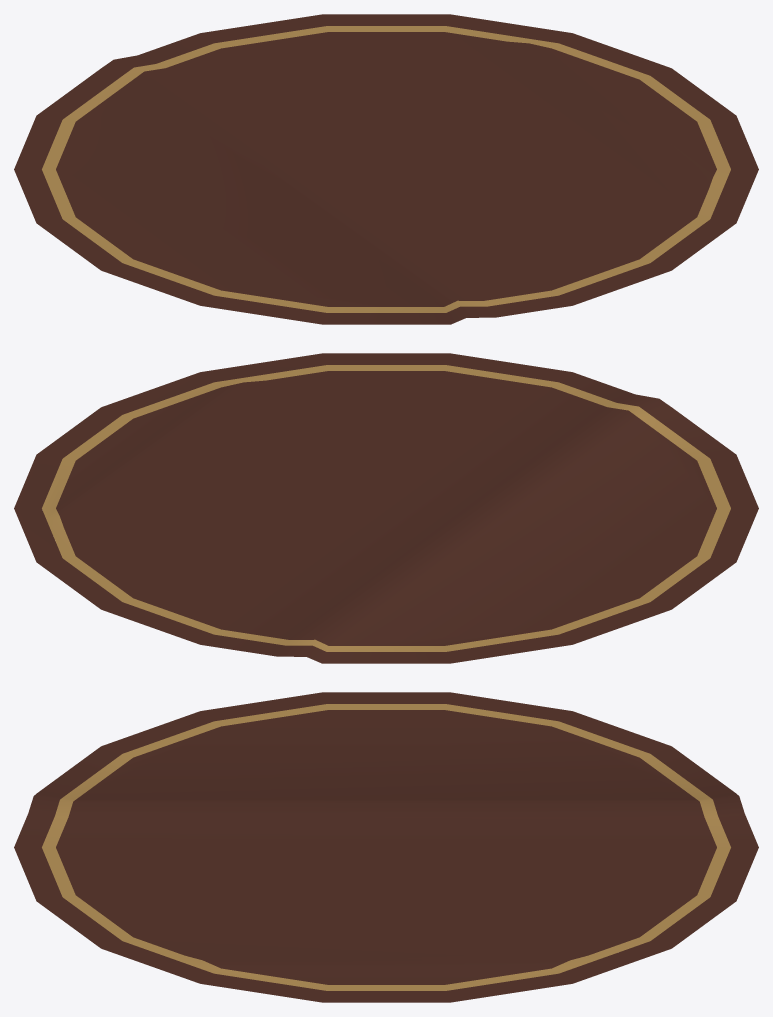
The model's file is quaternius-house-interior-carpet-round.glb.
3 views of the same model, one above another, from view 1: azimuth 30°, elevation 25°; view 2: azimuth 150°, elevation 25°; view 3: azimuth 270°, elevation 25° (orthographic).
Visible parts, largest first — view 1: Carpet_Round; view 2: Carpet_Round; view 3: Carpet_Round.
Boxes of the visible parts, left/top/right/bottom form: Carpet_Round: left=14, top=14, right=758, bottom=324; Carpet_Round: left=14, top=353, right=758, bottom=663; Carpet_Round: left=14, top=692, right=758, bottom=1002.
Size of the model in its own units: 2.49 by 0.0158 by 2.53.
